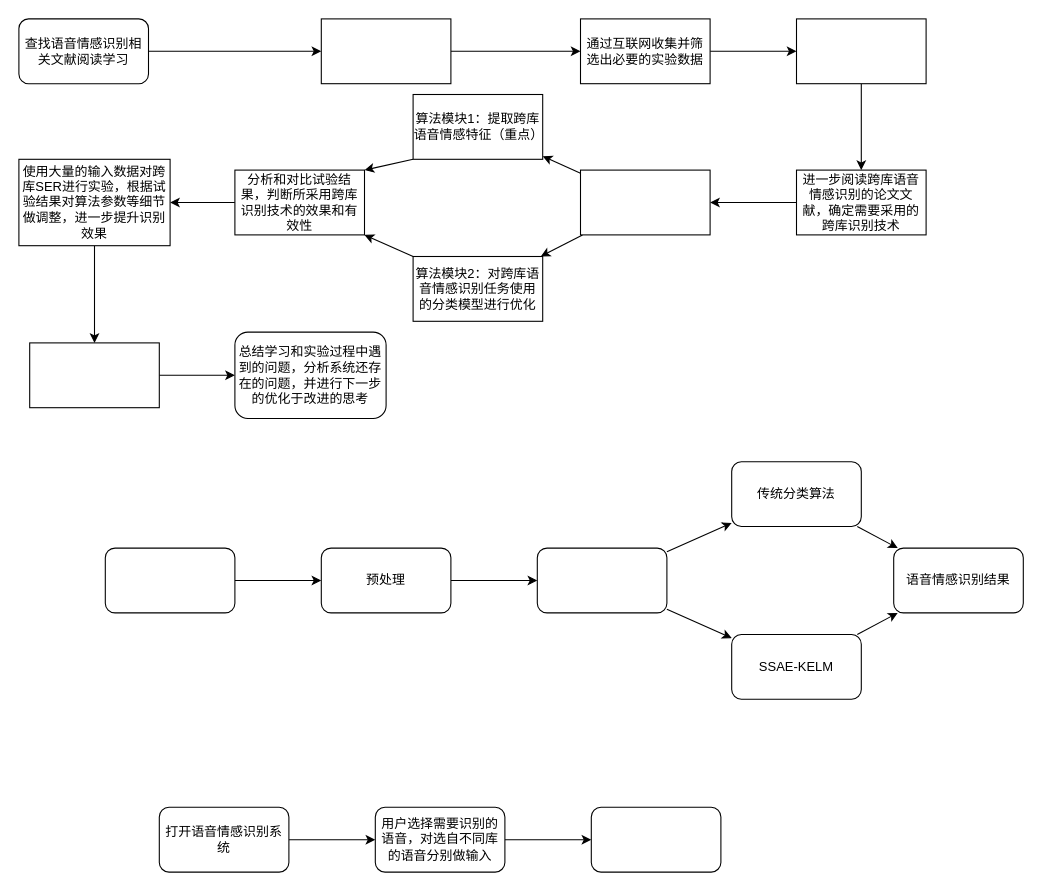
Some shapes in this 1042 by 891 pixel diagram are drawn without their labels. The centre of each missing label's shape, as x and y in pixels:
EMO-DB SAVEE RAVDESS: (x=169, y=580)
了解基本的语音情感识别算法，深度学习算法的一般步骤和流程: (x=385, y=51)
对基本的语音情感识别算法进行代码实现，对出现的性能等问题进行分析: (x=860, y=51)
对拟定的跨库识别技术原理进行了解，用代码对其进行实现: (x=644, y=202)
提取全局特征GF: (x=601, y=580)
算法各模块定型，确定最终采用的参数，完成代码的集成，撰写毕业论文: (x=94, y=375)
给出可视化语音情感识别结果: (x=655, y=839)
